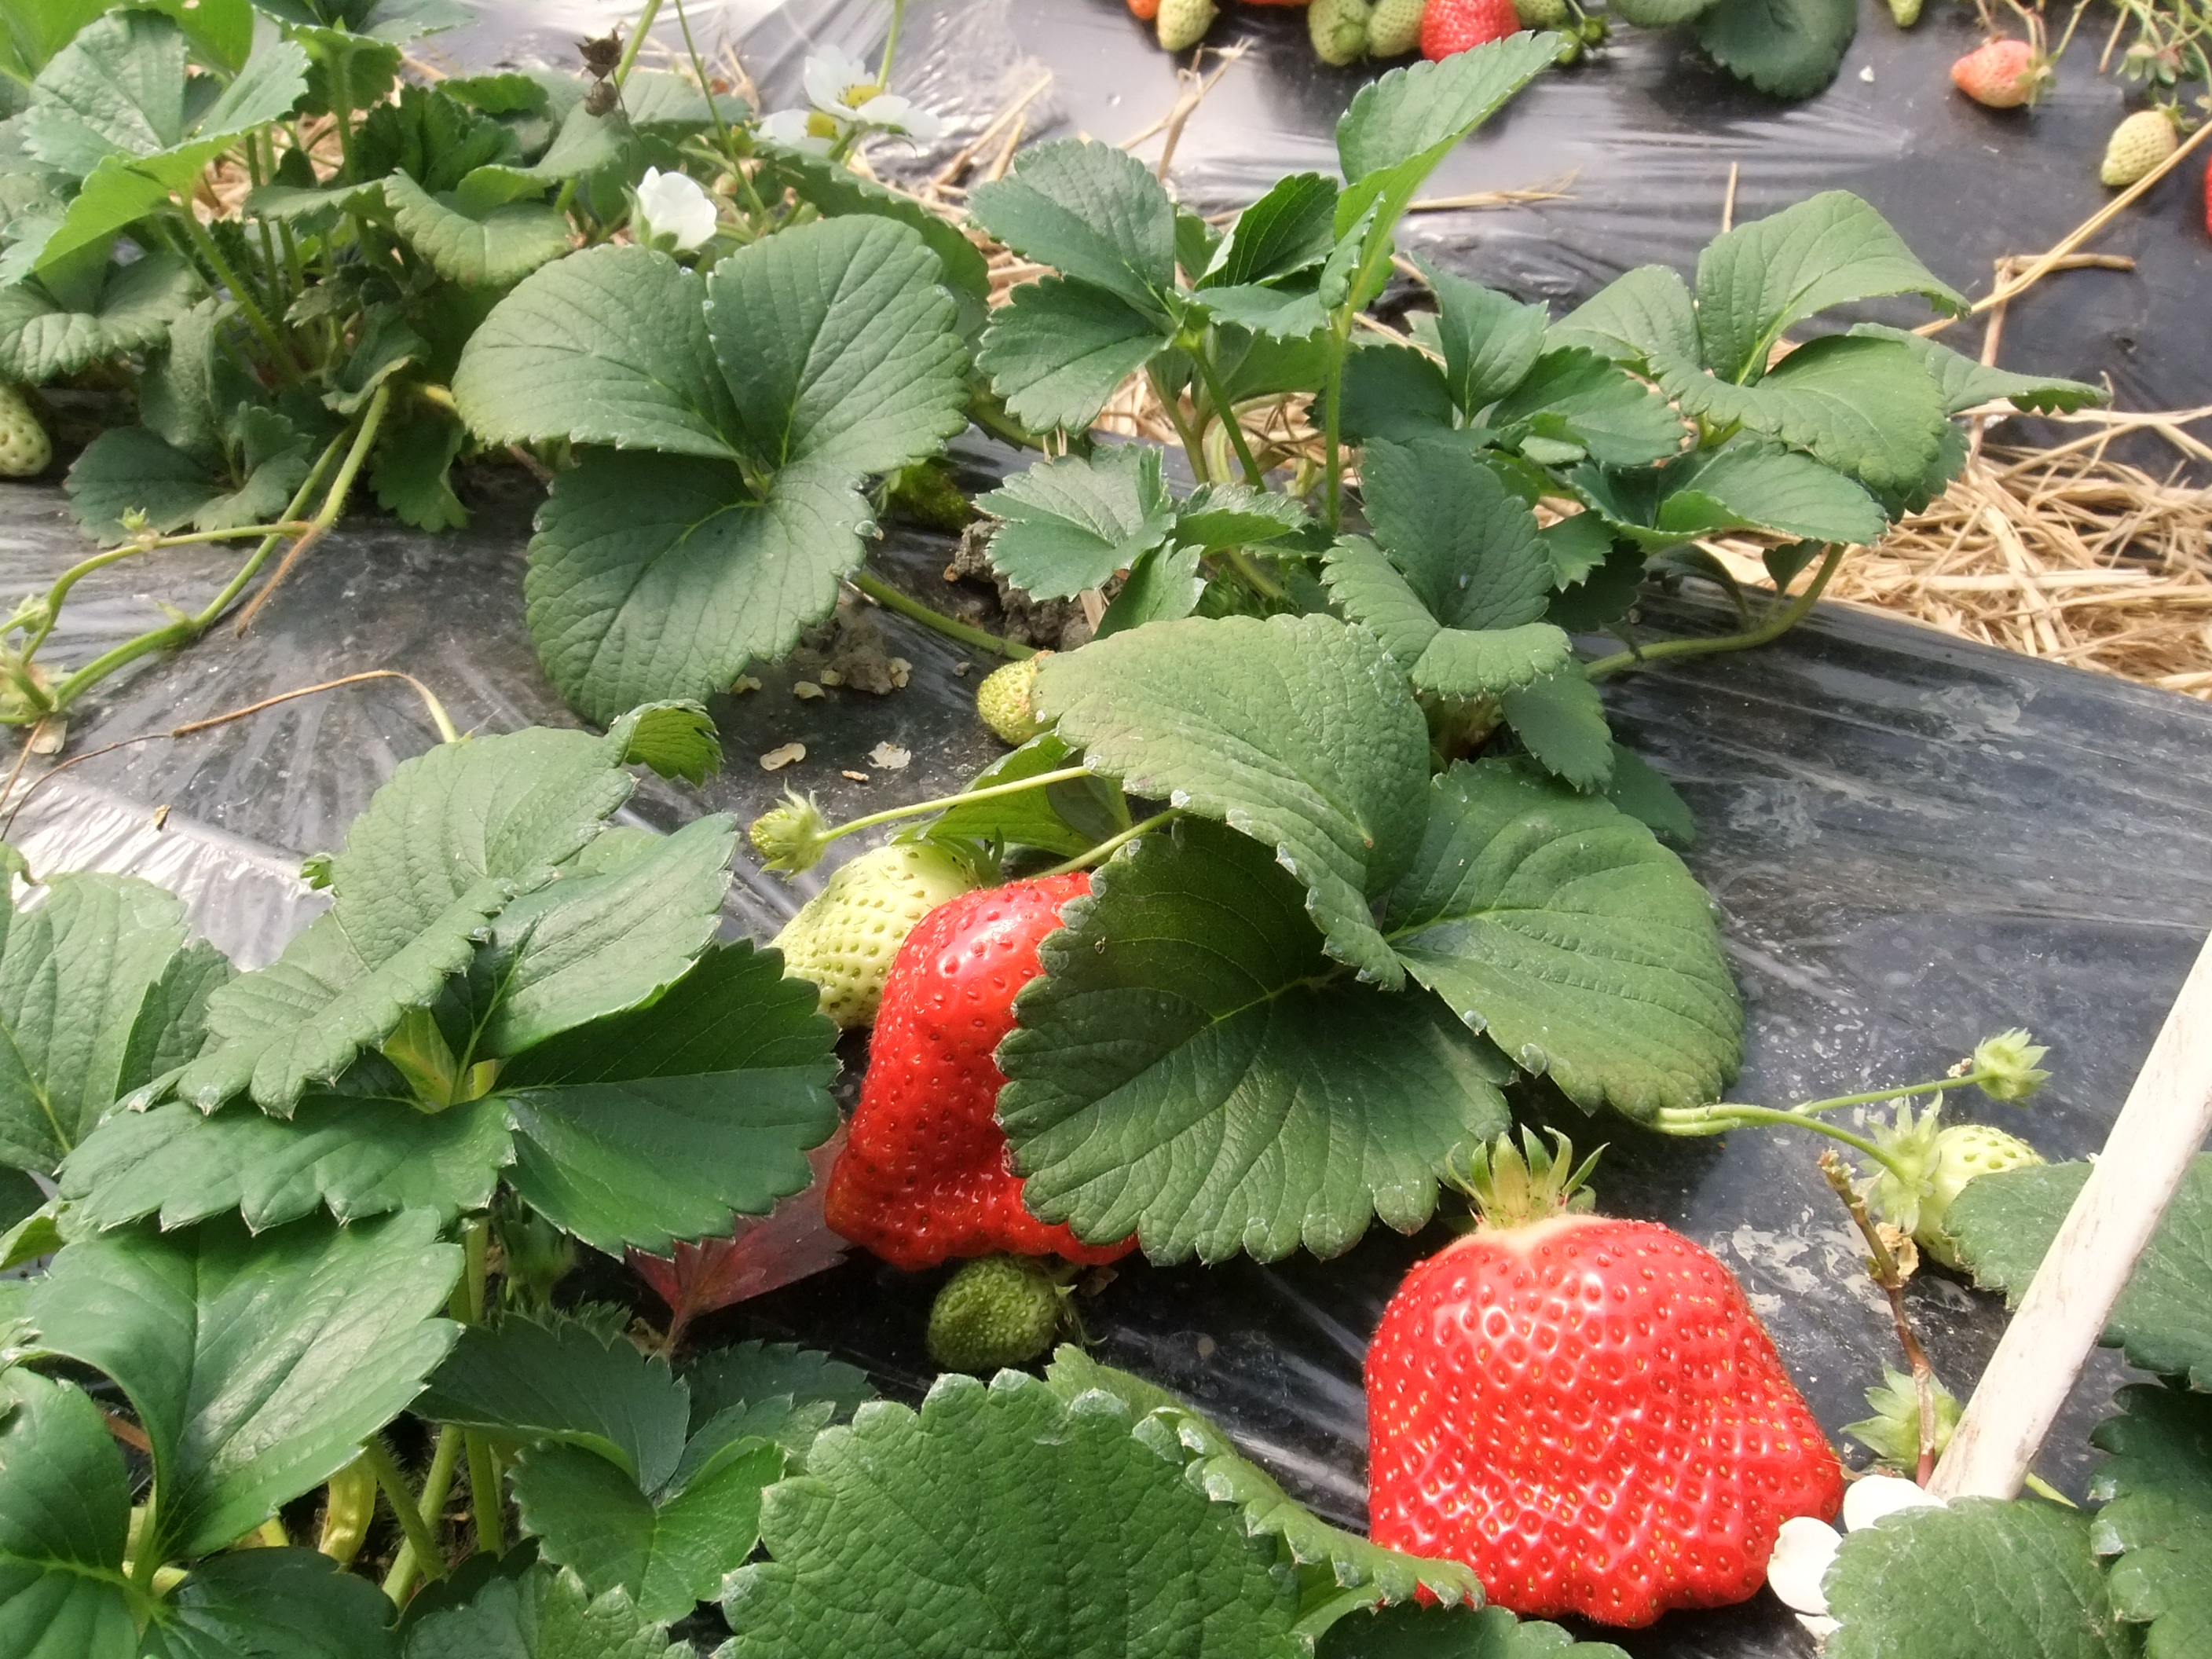StrawberryIrremovable: (747, 836, 993, 1023), (1902, 1117, 2060, 1272), (914, 1262, 1068, 1375), (968, 648, 1078, 748), (2090, 98, 2189, 199), (1944, 37, 2060, 120), (742, 798, 824, 870), (1355, 0, 1433, 70), (1299, 0, 1372, 64), (1151, 0, 1217, 59)
StrawberryOther: (1411, 0, 1515, 56)
StrawberryRemovable: (1346, 1223, 1848, 1621), (827, 861, 1177, 1281), (1418, 0, 1519, 61)
StrawberryWedge: (1341, 1220, 1850, 1624), (822, 863, 1186, 1286)
